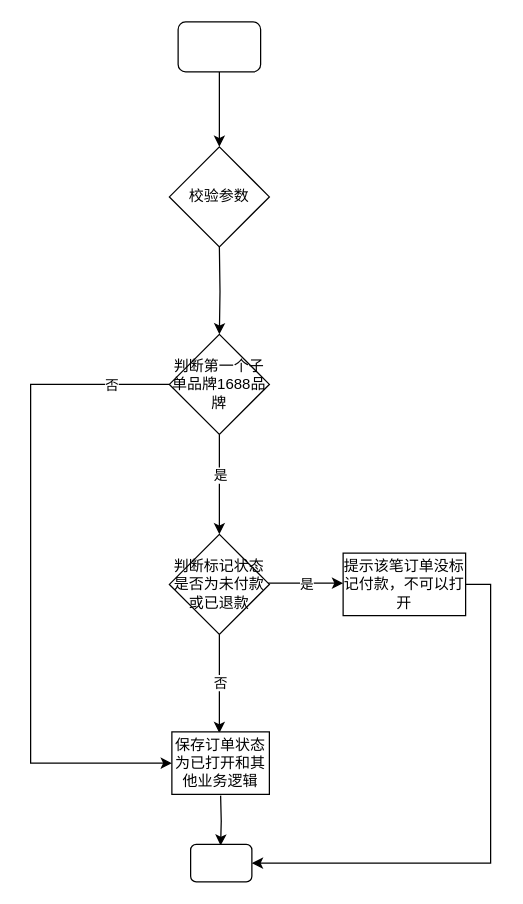
Image size: 523x904. Some labels were removed from this diagram. The box of each missing label's shape, as (x1, y1, x2, y2) in pixels:
开始: (177, 21, 261, 72)
结束: (189, 843, 252, 882)
